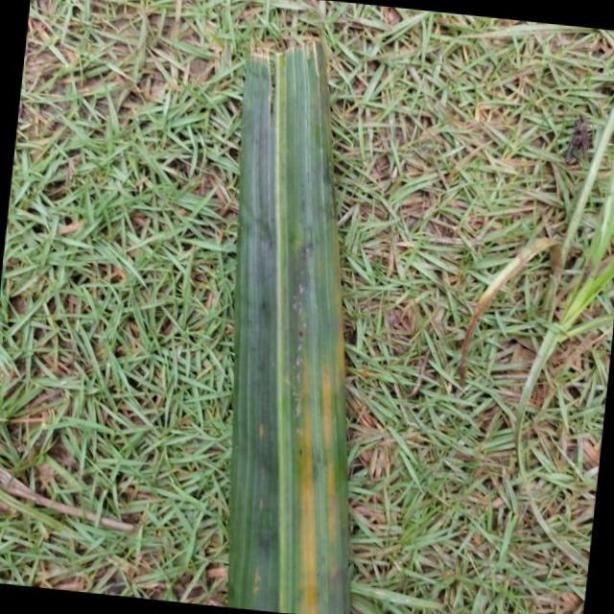Megnesium: (226, 17, 350, 614)
